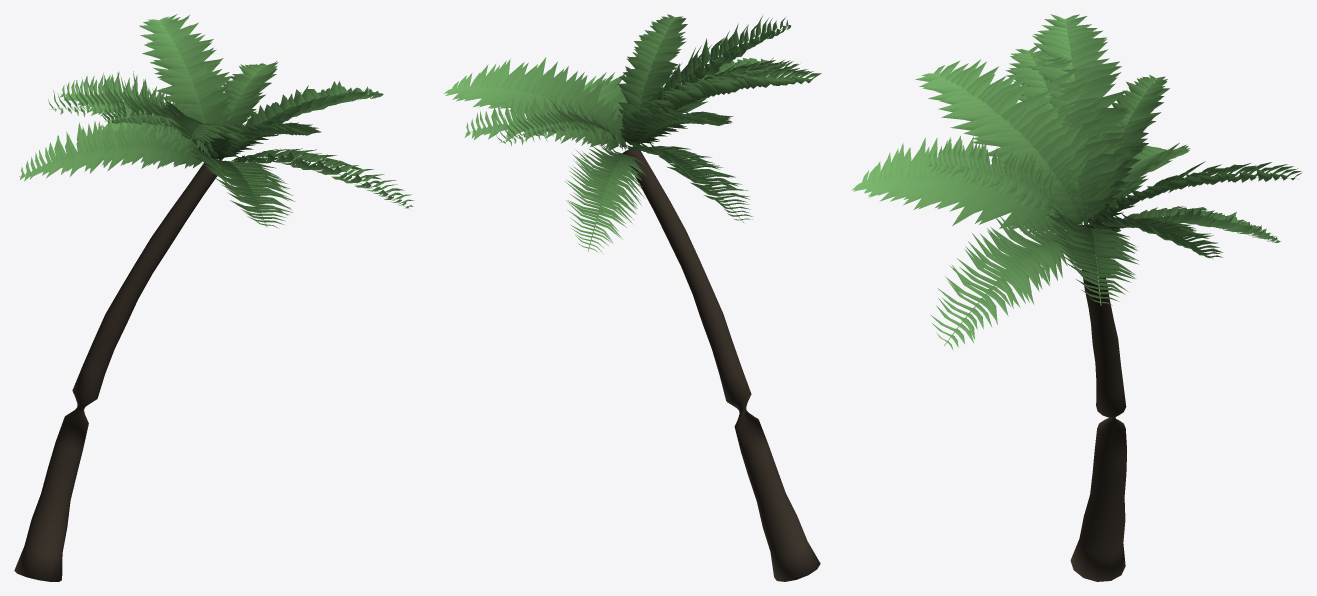
Rendered from SM_Palm_02_CurvedBeach.fbx.
The picture shows the model from 3 angles, left to right: view 1: azimuth 30°, elevation 25°; view 2: azimuth 150°, elevation 25°; view 3: azimuth 270°, elevation 25°; orthographic projection. The views are drawn at different scales.
Visible parts, largest first — view 1: SM_Palm_02_CurvedBeach; view 2: SM_Palm_02_CurvedBeach; view 3: SM_Palm_02_CurvedBeach.
Boxes of the visible parts, x1=… form: SM_Palm_02_CurvedBeach: x1=14, y1=14, x2=413, y2=581; SM_Palm_02_CurvedBeach: x1=443, y1=14, x2=821, y2=581; SM_Palm_02_CurvedBeach: x1=851, y1=14, x2=1302, y2=581.
Size of the model in its own units: 582 by 750 by 547.
